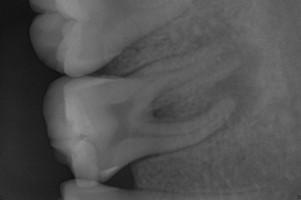Endo-Periodontal Lesion: (151, 102, 177, 123)
Furcation Involvement: (192, 28, 264, 132)
